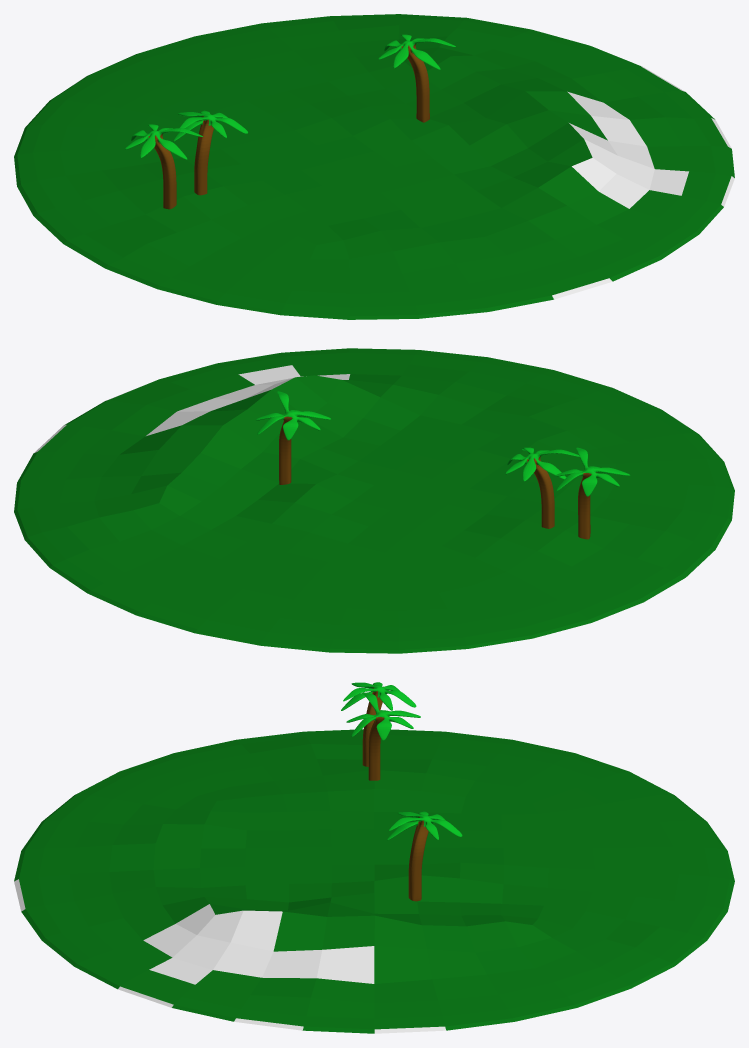
Rendered from island2.fbx.
The picture shows the model from 3 angles, top to bottom: view 1: azimuth 30°, elevation 25°; view 2: azimuth 150°, elevation 25°; view 3: azimuth 270°, elevation 25°; orthographic projection.
Visible parts, largest first — view 1: Cube.003; view 2: Cube.003; view 3: Cube.003.
Boxes of the visible parts, left/top/right/bottom form: Cube.003: left=14, top=14, right=734, bottom=319; Cube.003: left=14, top=348, right=734, bottom=653; Cube.003: left=14, top=682, right=734, bottom=1033.
Bounding box in the file's own units: 2709 × 441 × 2709.
